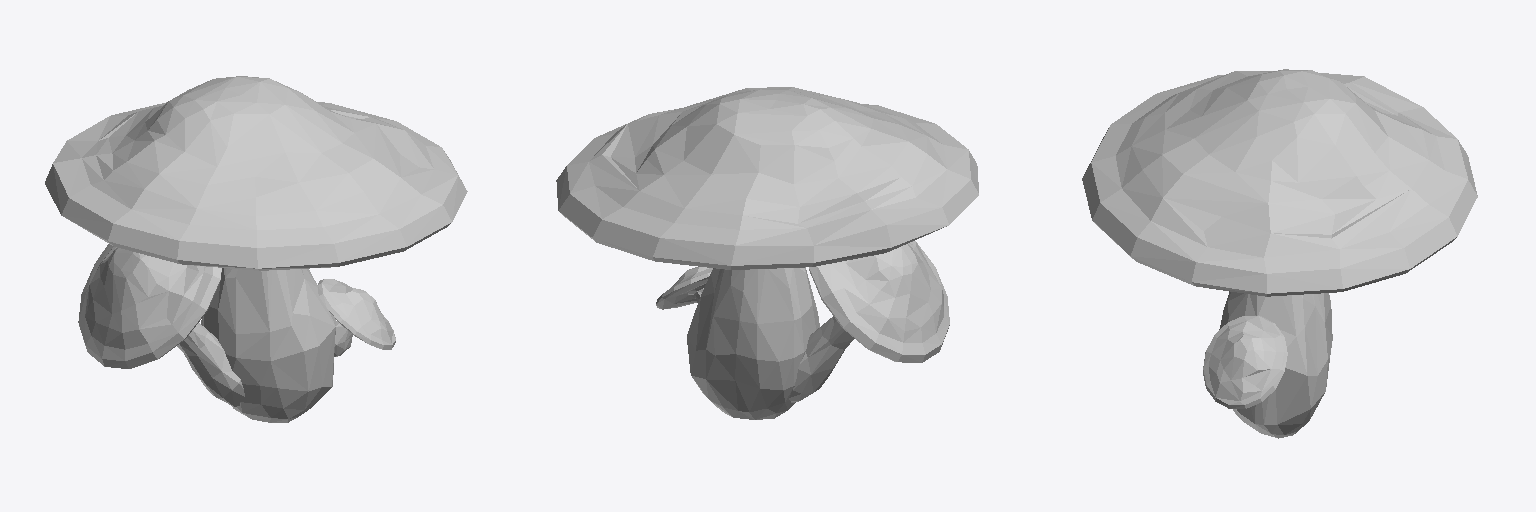
File: champi1.obj
3 renders of one model, left to right at view 1: azimuth 30°, elevation 25°; view 2: azimuth 150°, elevation 25°; view 3: azimuth 270°, elevation 25°, orthographic.
Parts seen in each view (by area): view 1: champi1; view 2: champi1; view 3: champi1.
Part boxes in pixels (bbox=[...]): champi1: bbox=[45, 76, 467, 422]; champi1: bbox=[556, 87, 978, 419]; champi1: bbox=[1082, 69, 1477, 438].
Size of the model in its own units: 1.12 by 0.9191 by 1.02.